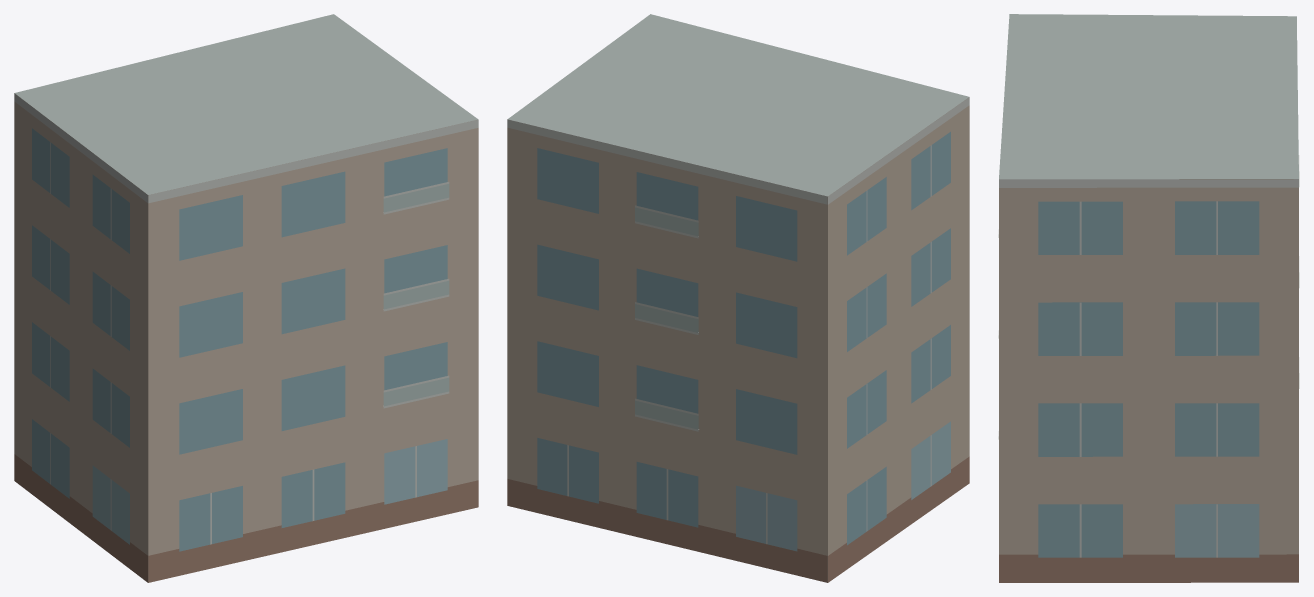
File: survey-upis-32769555.glb
3 renders of one model, left to right at view 1: azimuth 30°, elevation 25°; view 2: azimuth 150°, elevation 25°; view 3: azimuth 270°, elevation 25°, orthographic. The views are drawn at different scales.
Visible parts, largest first — view 1: survey-upis-32769555.tmp; view 2: survey-upis-32769555.tmp; view 3: survey-upis-32769555.tmp.
Part boxes in pixels (x1,y1,x2,y2): survey-upis-32769555.tmp: (14, 14, 478, 582); survey-upis-32769555.tmp: (507, 14, 969, 582); survey-upis-32769555.tmp: (998, 14, 1299, 582).
Size of the model in its own units: 10.02 by 11.4 by 7.72.
